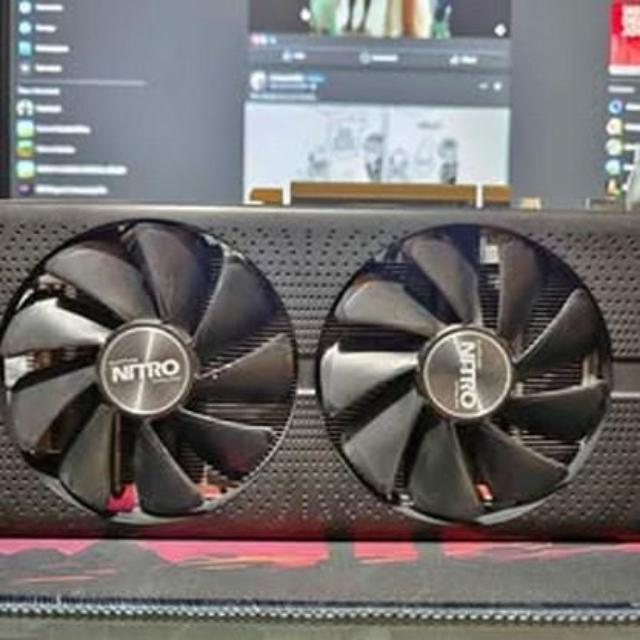GPU: (0, 185, 640, 580)
